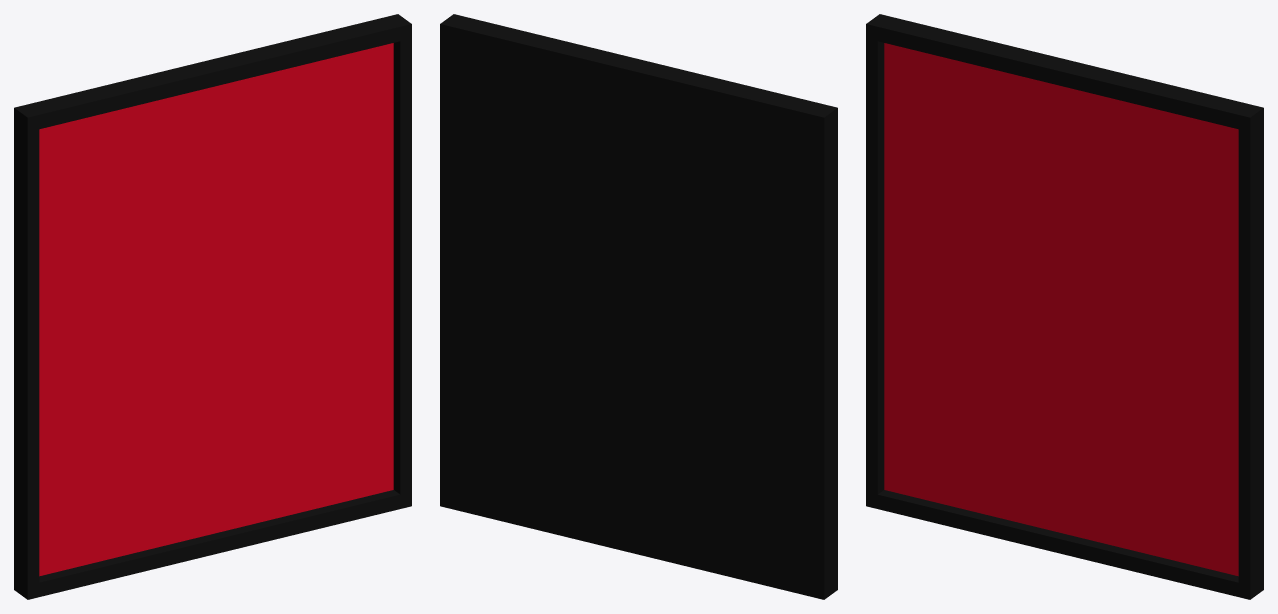
The model's file is propSquerPhotoFrame.fbx.
3 renders of one model, left to right at view 1: azimuth 30°, elevation 25°; view 2: azimuth 150°, elevation 25°; view 3: azimuth 330°, elevation 25°, orthographic.
Visible parts, largest first — view 1: propSquerPhotoFrame; view 2: propSquerPhotoFrame; view 3: propSquerPhotoFrame.
Part boxes in pixels (x1,y1,x2,y2): propSquerPhotoFrame: [14, 14, 411, 599]; propSquerPhotoFrame: [440, 14, 837, 599]; propSquerPhotoFrame: [866, 14, 1263, 599].
Size of the model in its own units: 300 by 360 by 18.48.
